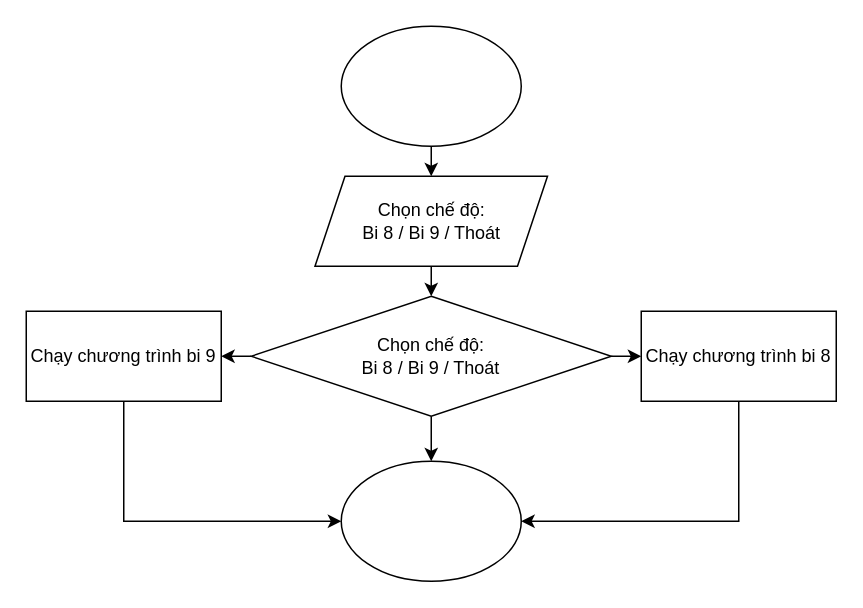
Some shapes in this 863 by 608 pixel diagram are drawn without their labels. The centre of each missing label's shape, as x and y in pixels:
Bắt đầu: pixel 430 85
Kết thúc: pixel 430 520
